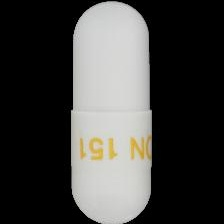52544-151: (0, 0, 224, 224)
